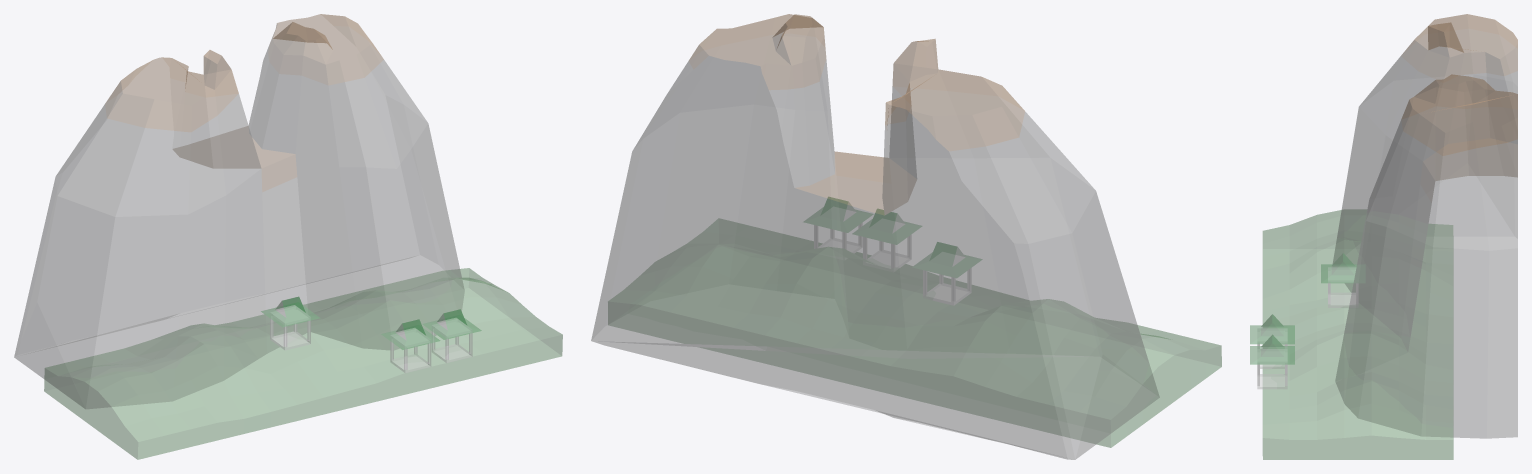
File: Mountain.fbx
3 views of the same model, side by side, from view 1: azimuth 30°, elevation 25°; view 2: azimuth 150°, elevation 25°; view 3: azimuth 270°, elevation 25° (orthographic). The views are drawn at different scales.
Visible parts, largest first — view 1: 3Mountian; view 2: 3Mountian; view 3: 3Mountian.
Boxes of the visible parts, x1,y1,x2,y2 form: 3Mountian: (14,14,562,459); 3Mountian: (591,14,1221,459); 3Mountian: (1250,14,1517,459).
Bounding box in the file's own units: 6479 × 4407 × 3470.
